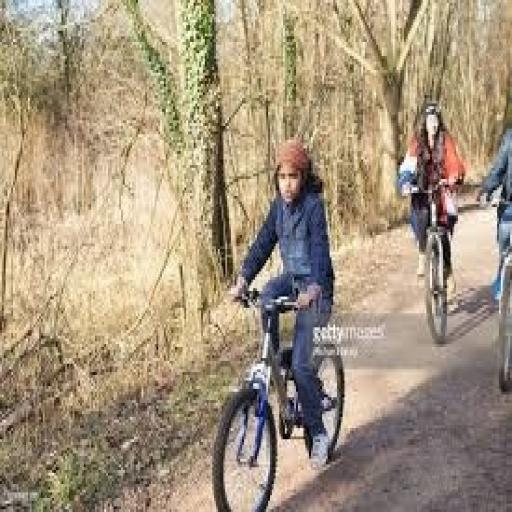cycling: (227, 134, 339, 473), (397, 95, 469, 299)
